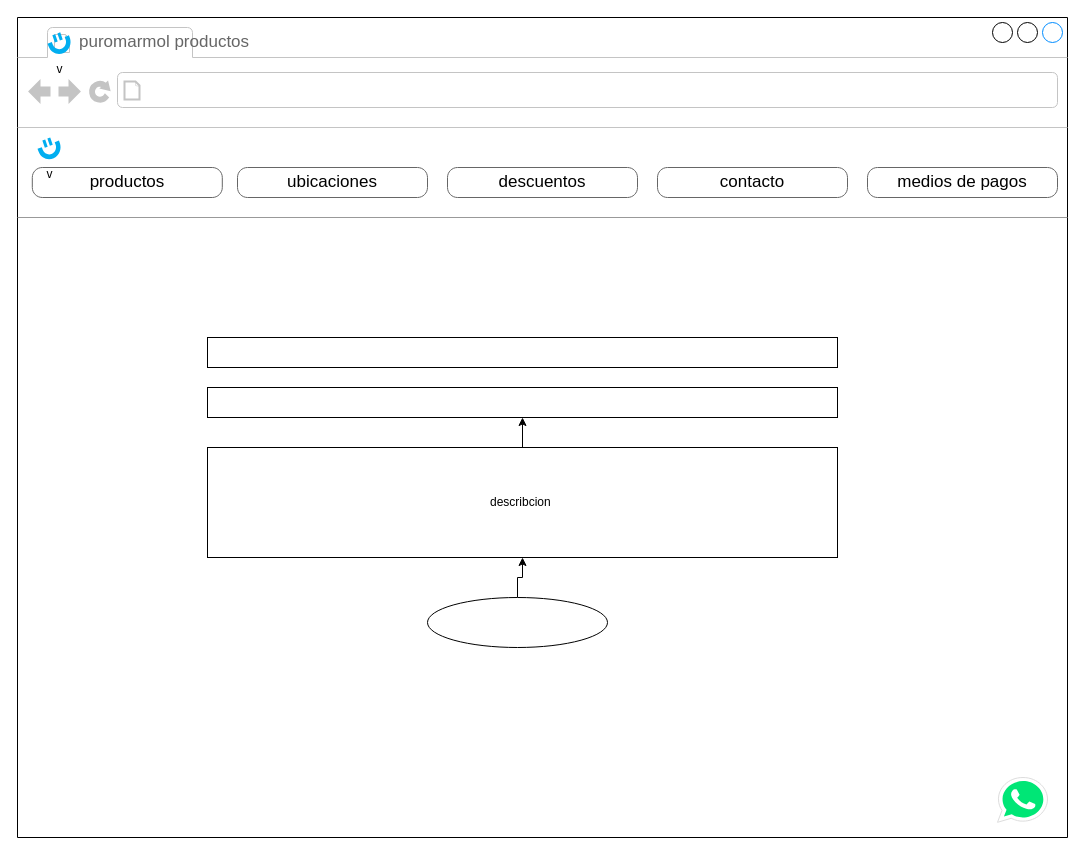
Some shapes in this 1085 by 855 pixel diagram are drawn without their labels. Here are the shapes that lost their labels. From the top down, the box of each, then its label:
(146, 76, 398, 104): https://www.puromarmol.com.ar/productos
(206, 336, 838, 368): nombre
(206, 386, 838, 418): email
(426, 596, 608, 648): enviar
